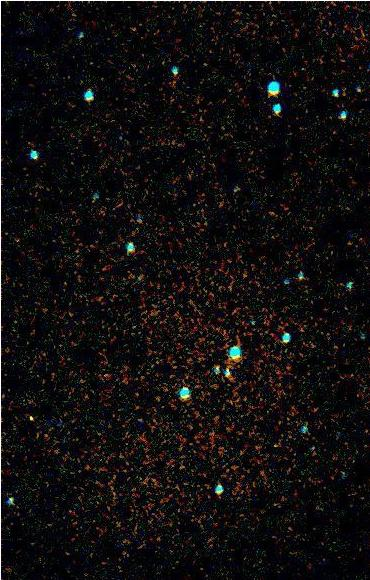star: (15, 401, 45, 431)
